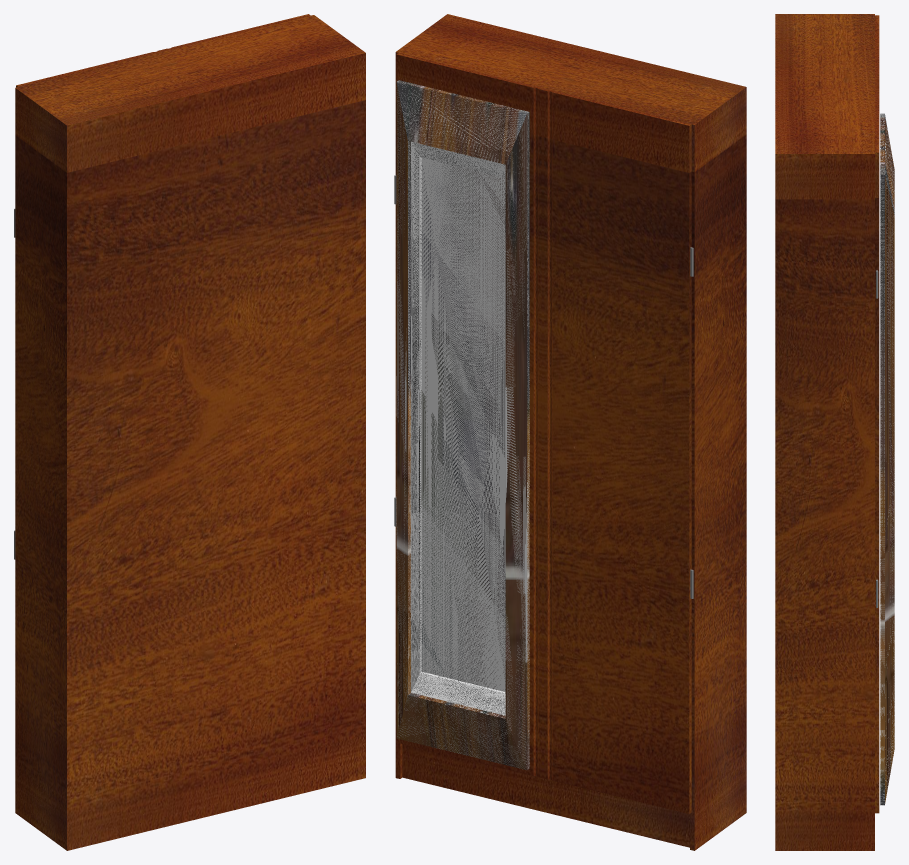
3 views of the same model, side by side, from view 1: azimuth 30°, elevation 25°; view 2: azimuth 150°, elevation 25°; view 3: azimuth 270°, elevation 25° (orthographic). The views are drawn at different scales.
Parts seen in each view (by area): view 1: mesh11_mesh11-geometry; view 2: mesh9_mesh9-geometry, mesh13_mesh13-geometry, mesh11_mesh11-geometry, mesh4_mesh4-geometry; view 3: mesh11_mesh11-geometry, mesh13_mesh13-geometry, mesh4_mesh4-geometry, mesh9_mesh9-geometry.
Part boxes in pixels (x1,y1,x2,y2): mesh11_mesh11-geometry: [15, 15, 365, 850]; mesh9_mesh9-geometry: [543, 88, 691, 813]; mesh13_mesh13-geometry: [396, 80, 529, 770]; mesh11_mesh11-geometry: [395, 14, 746, 850]; mesh4_mesh4-geometry: [396, 53, 544, 778]; mesh11_mesh11-geometry: [775, 14, 874, 850]; mesh13_mesh13-geometry: [880, 113, 894, 805]; mesh4_mesh4-geometry: [875, 84, 879, 813]; mesh9_mesh9-geometry: [875, 15, 879, 83].
Bounding box in the file's own units: 0.392 × 0.909 × 0.1414.
